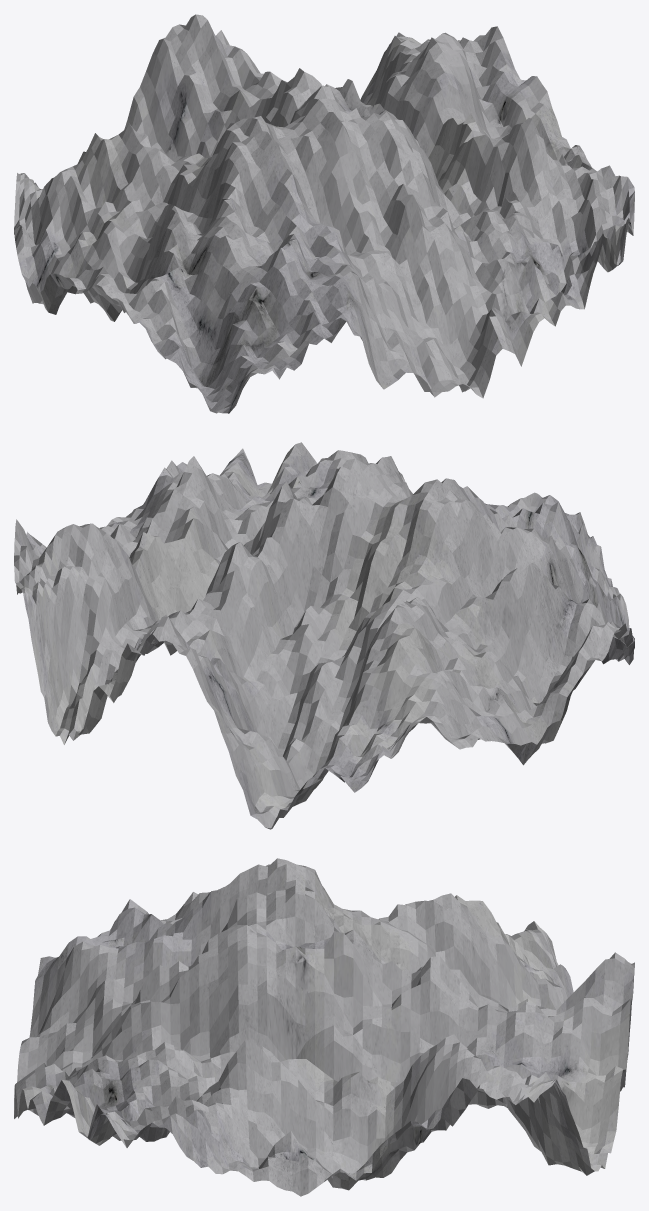
3 renders of one model, top to bottom at view 1: azimuth 30°, elevation 25°; view 2: azimuth 150°, elevation 25°; view 3: azimuth 270°, elevation 25°, orthographic. The views are drawn at different scales.
Parts seen in each view (by area): view 1: Plane; view 2: Plane; view 3: Plane.
Part boxes in pixels (<box>): Plane: <box>14,14,634,413</box>; Plane: <box>14,442,634,829</box>; Plane: <box>14,858,634,1196</box>.
Bounding box in the file's own units: 36.67 × 16 × 36.67.
Materials: 1 (1 with a texture image).
